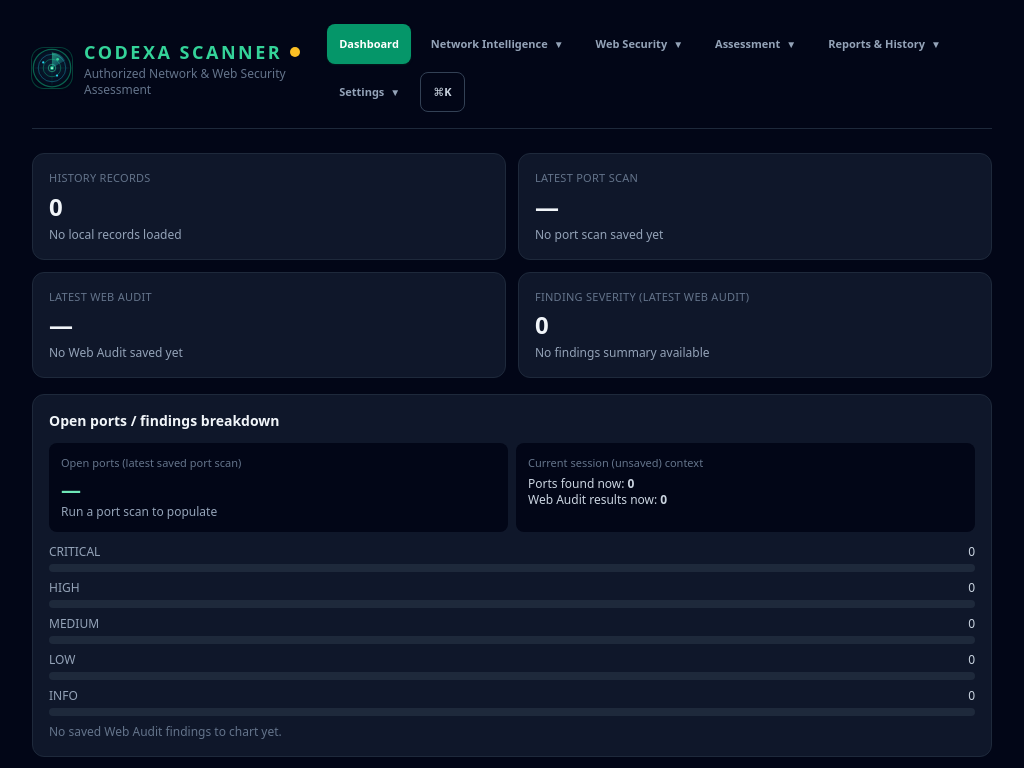
Scenario: App Component - Critical Flows › Workspace CRUD › should show workspaces tab
Click the button "Settings ▼": (370, 92) [327, 72, 412, 112]
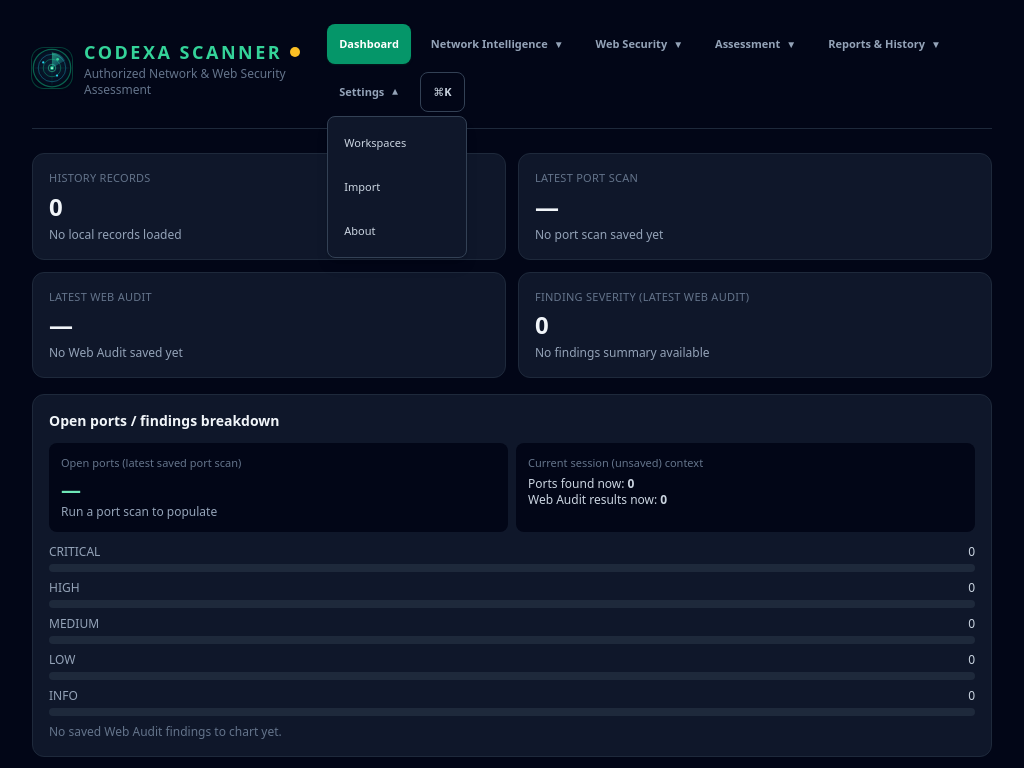
Click the button "Workspaces": (397, 143) [334, 123, 460, 163]
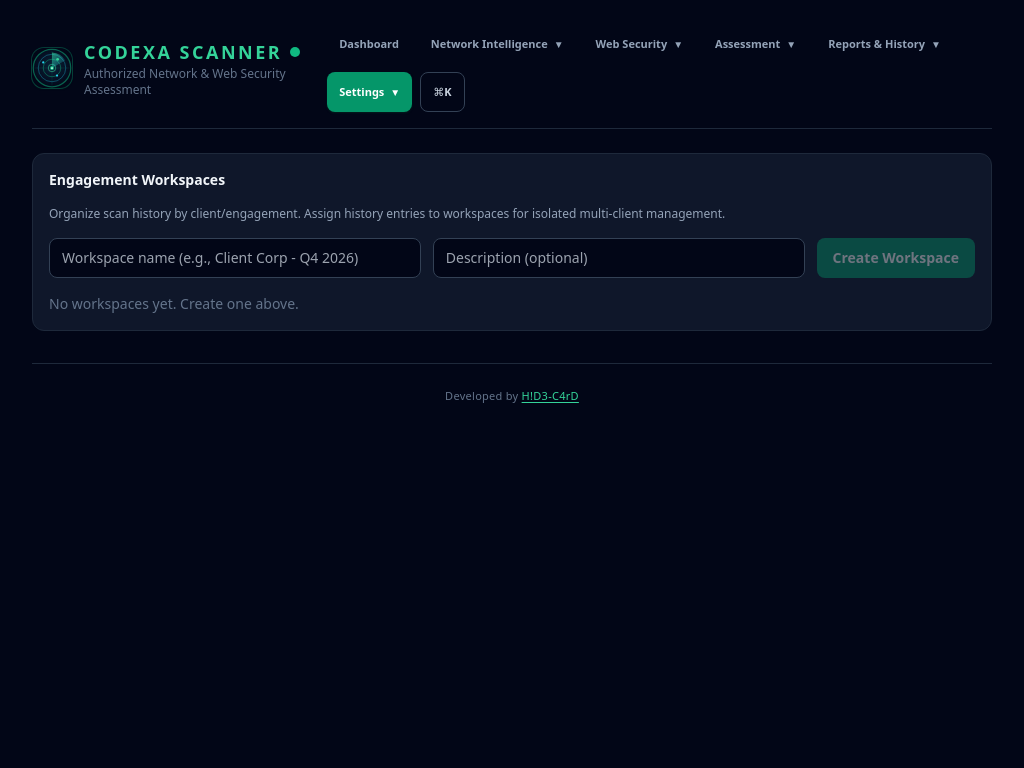
Check: the heading "Engagement Workspaces" is shown, box [49, 170, 225, 189]
